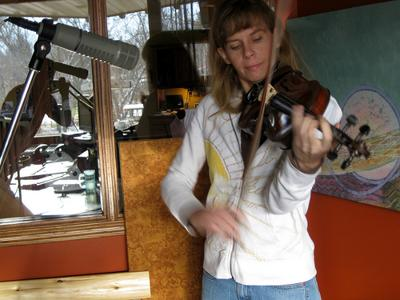person: (159, 1, 346, 300)
